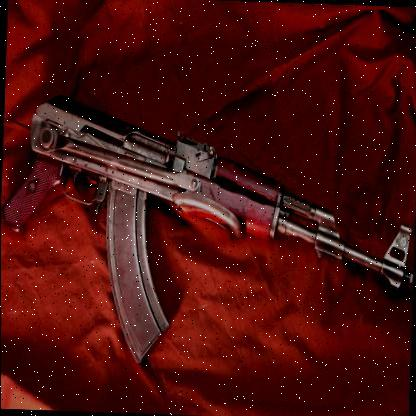rifle: (0, 74, 416, 390)
